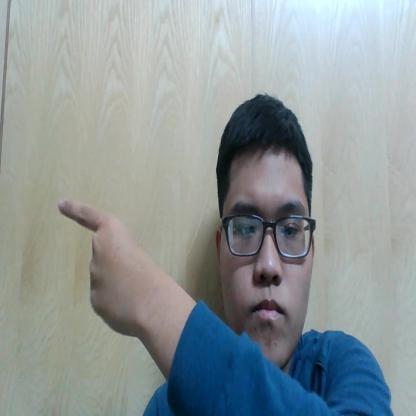right: (48, 192, 168, 362)
